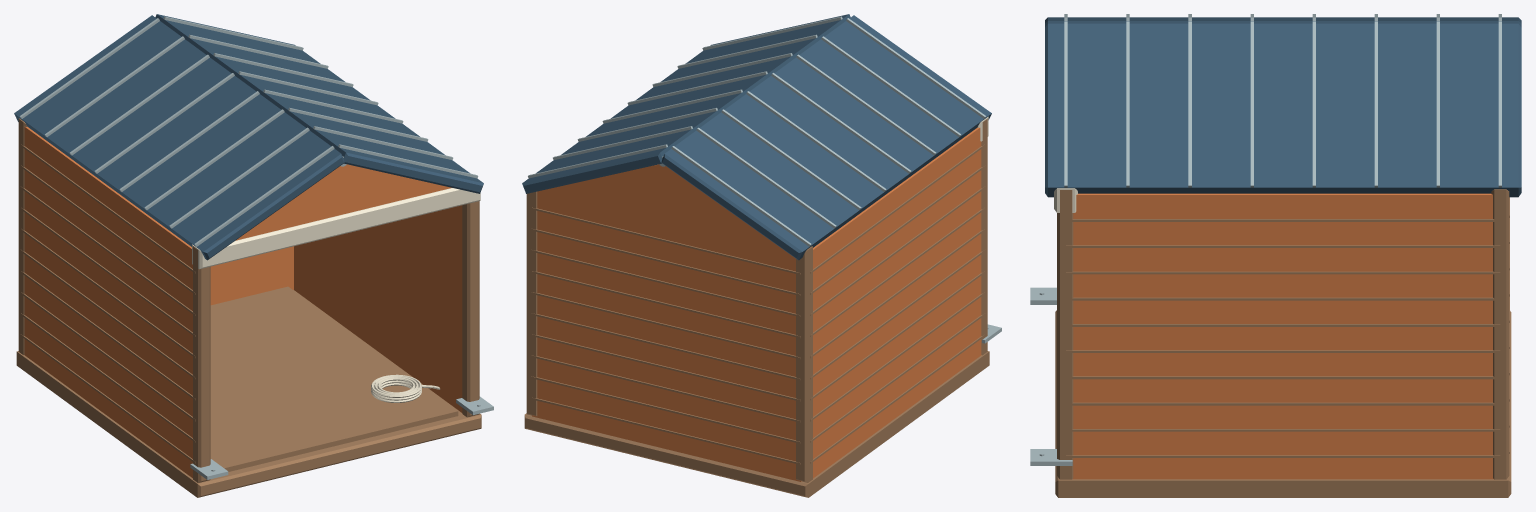
Rendered from boathouse.glb.
3 renders of one model, left to right at view 1: azimuth 30°, elevation 25°; view 2: azimuth 150°, elevation 25°; view 3: azimuth 270°, elevation 25°, orthographic. The views are drawn at different scales.
Visible parts, largest first — view 1: orange, cedar, navy, metal, ivory; view 2: orange, navy, cedar, metal; view 3: orange, navy, cedar, metal.
Part boxes in pixels (bbox=[...]): orange: bbox=[24, 127, 462, 478]; cedar: bbox=[16, 118, 481, 497]; navy: bbox=[14, 14, 483, 260]; metal: bbox=[20, 16, 493, 479]; ivory: bbox=[192, 188, 480, 402]; orange: bbox=[532, 127, 981, 481]; navy: bbox=[522, 14, 991, 260]; cedar: bbox=[524, 119, 989, 497]; metal: bbox=[528, 16, 1001, 343]; orange: bbox=[1073, 193, 1493, 479]; navy: bbox=[1045, 17, 1521, 197]; cedar: bbox=[1055, 189, 1511, 497]; metal: bbox=[1030, 14, 1501, 465].
Bounding box in the file's own units: 3.41 × 3.59 × 4.07.
